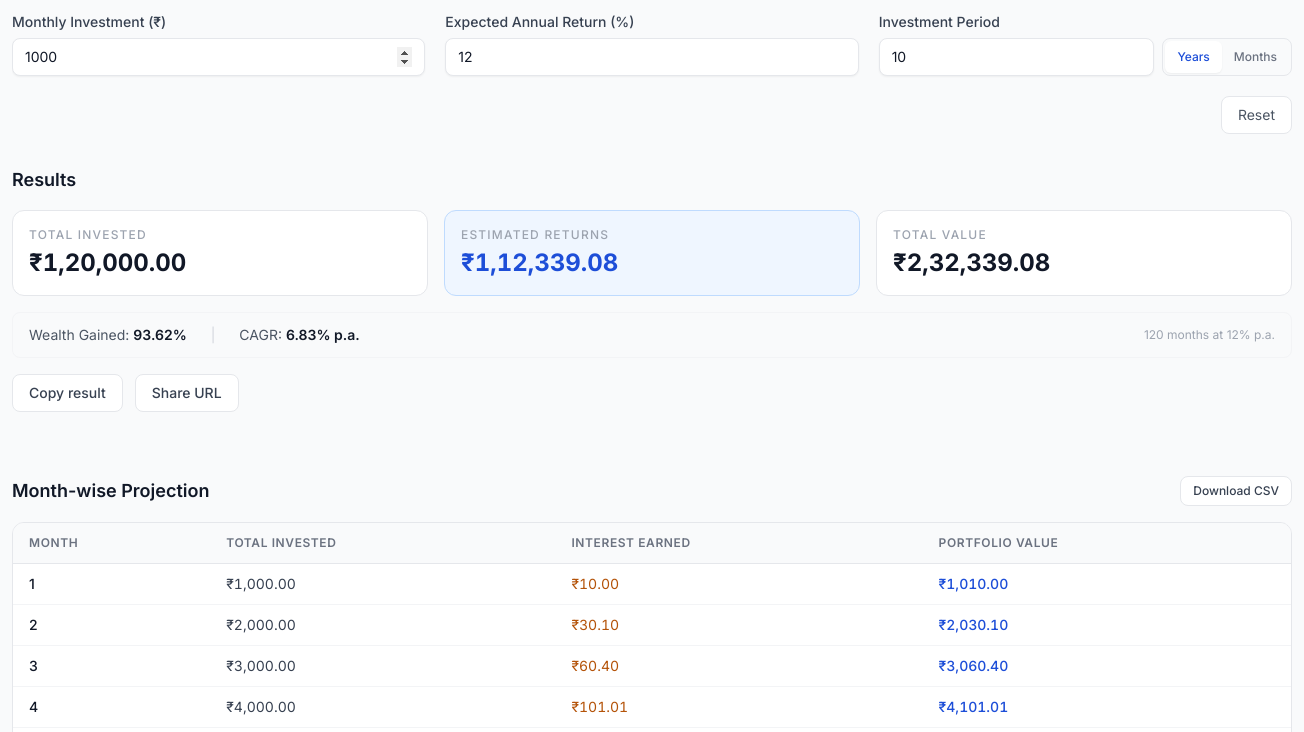
it: SIPCalculator › shows error when annual return is negative
This screenshot has width=1304, height=732.
Replace the text in the number field labelled "Expected Annual Return (%)" with "-1" at (652, 57), box left=445, top=38, right=859, bottom=76
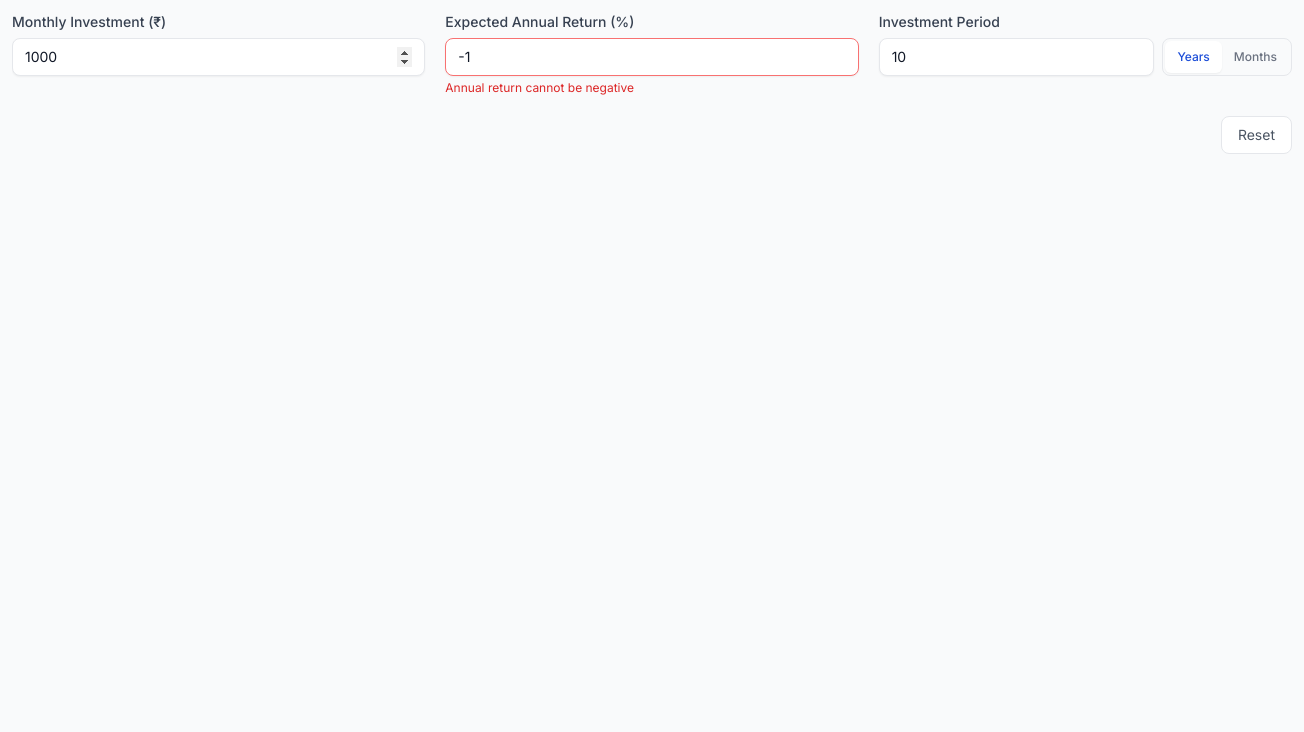
Result: the text "Annual return cannot be negative" is shown at left=445, top=80, right=634, bottom=95
